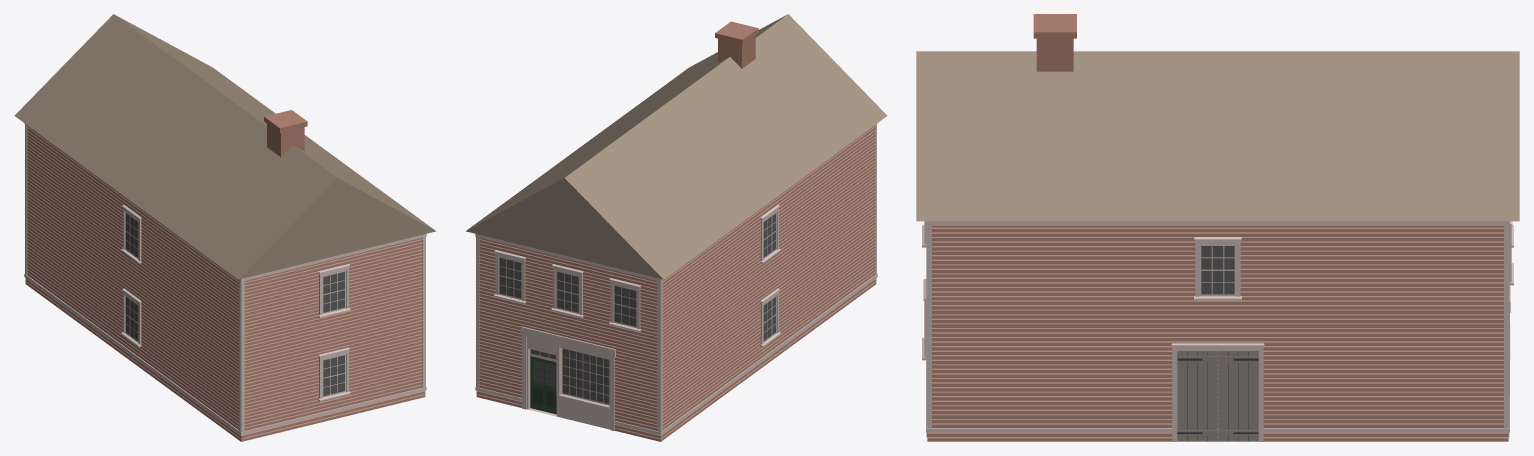
The model's file is recon_1835_core_c3_040__inferred_1835.glb.
3 renders of one model, left to right at view 1: azimuth 30°, elevation 25°; view 2: azimuth 150°, elevation 25°; view 3: azimuth 270°, elevation 25°, orthographic. The views are drawn at different scales.
Visible parts, largest first — view 1: recon_1835_core_c3_040__inferred_1835; view 2: recon_1835_core_c3_040__inferred_1835; view 3: recon_1835_core_c3_040__inferred_1835.
Boxes of the visible parts, <box> form: recon_1835_core_c3_040__inferred_1835: <box>14,14,435,441</box>; recon_1835_core_c3_040__inferred_1835: <box>466,14,887,441</box>; recon_1835_core_c3_040__inferred_1835: <box>916,14,1519,441</box>.
Bounding box in the file's own units: 7.01 × 8.97 × 13.7.
